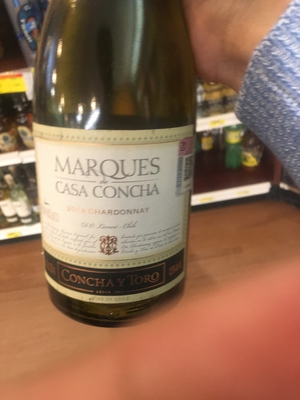marques de casa concha chardonnay: (32, 6, 210, 328)
